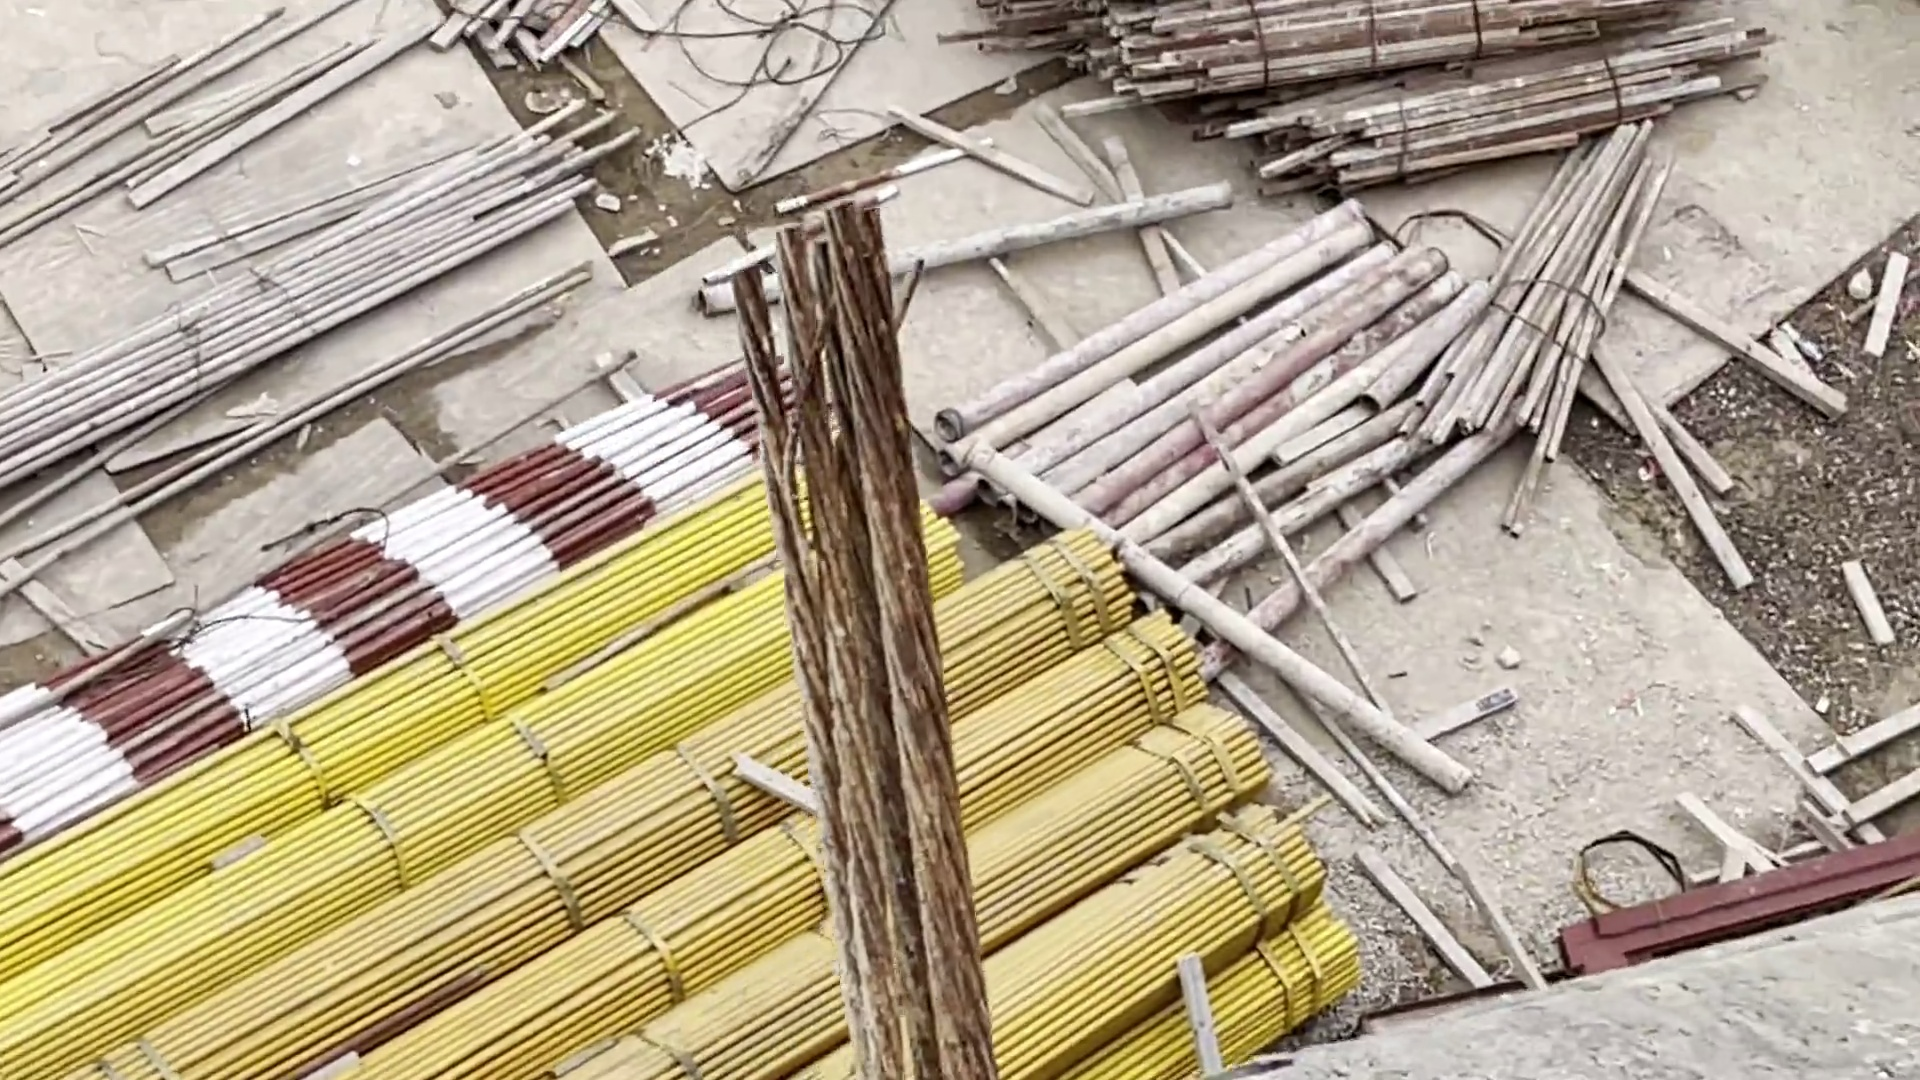wood: (1247, 22, 1782, 202), (980, 1, 1652, 100)
